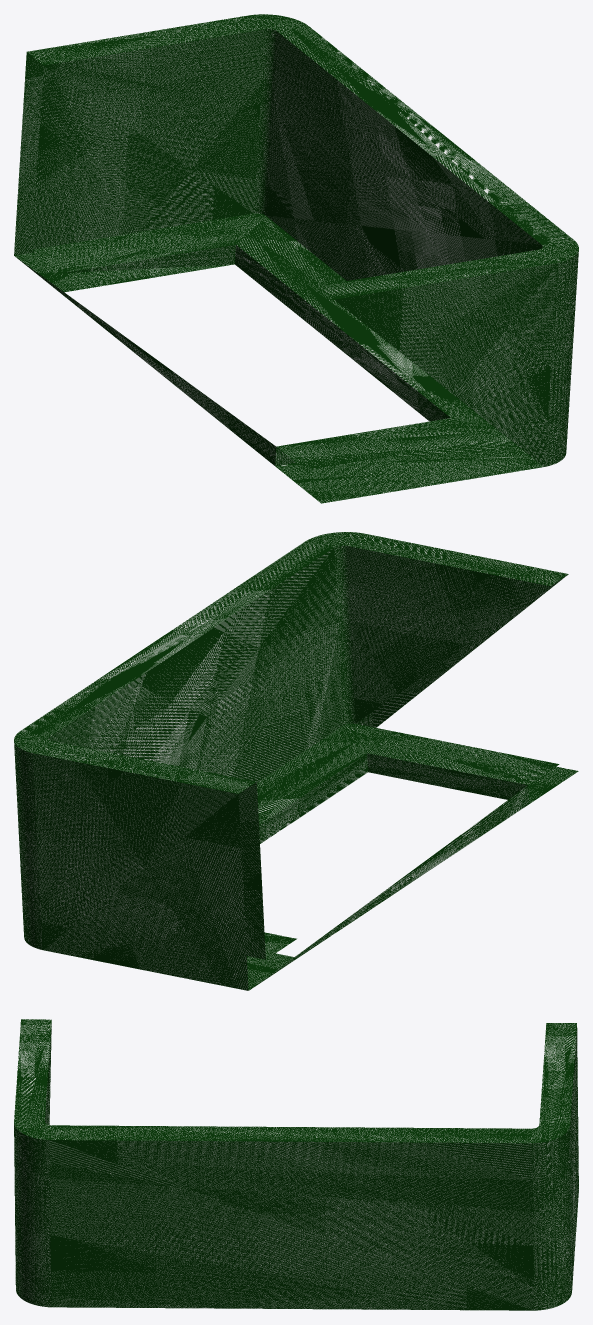
The picture shows the model from 3 angles, top to bottom: view 1: azimuth 30°, elevation 25°; view 2: azimuth 150°, elevation 25°; view 3: azimuth 270°, elevation 25°; orthographic projection. The views are drawn at different scales.
Size of the model in its own units: 0.0776 by 0.0579 by 0.1561.
